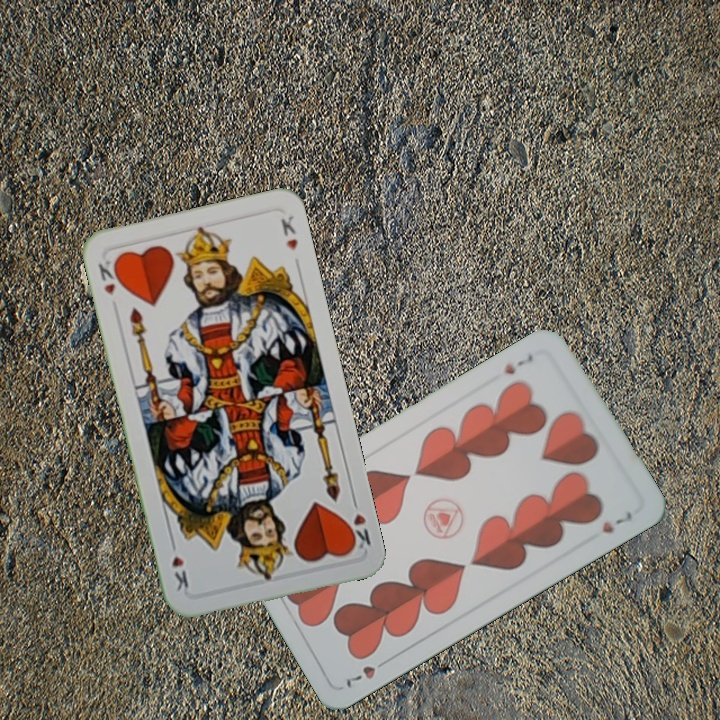H7: (342, 653, 394, 691), (500, 350, 537, 378)
HK: (342, 493, 374, 552), (94, 254, 124, 298)
